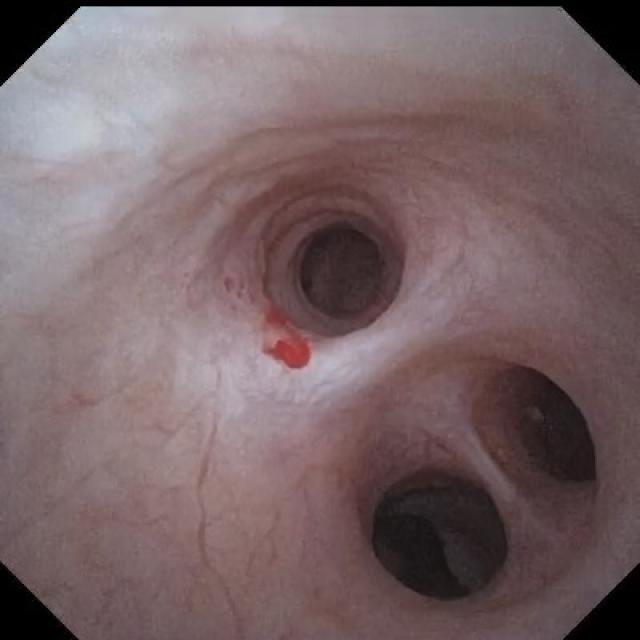stone-new: (374, 502, 467, 597)
